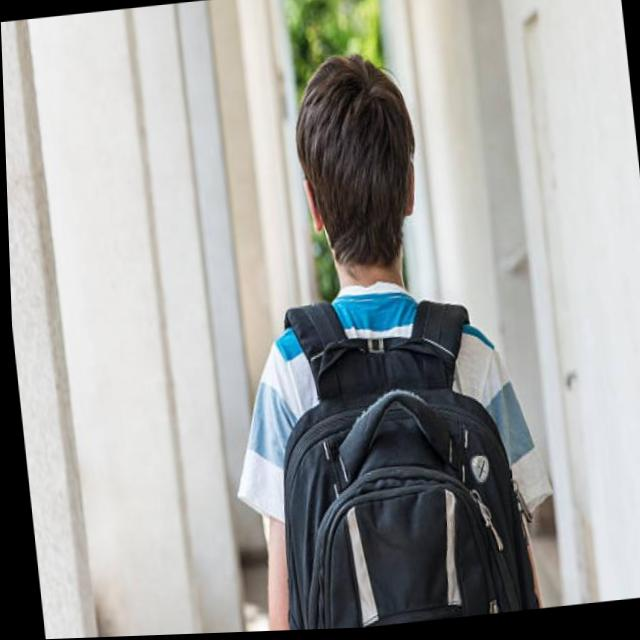no helmet: (284, 47, 426, 301)
